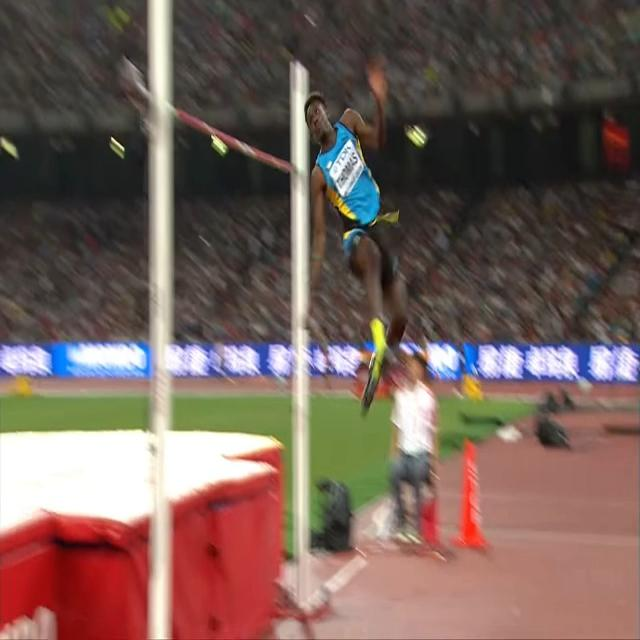jump: (304, 61, 411, 420)
